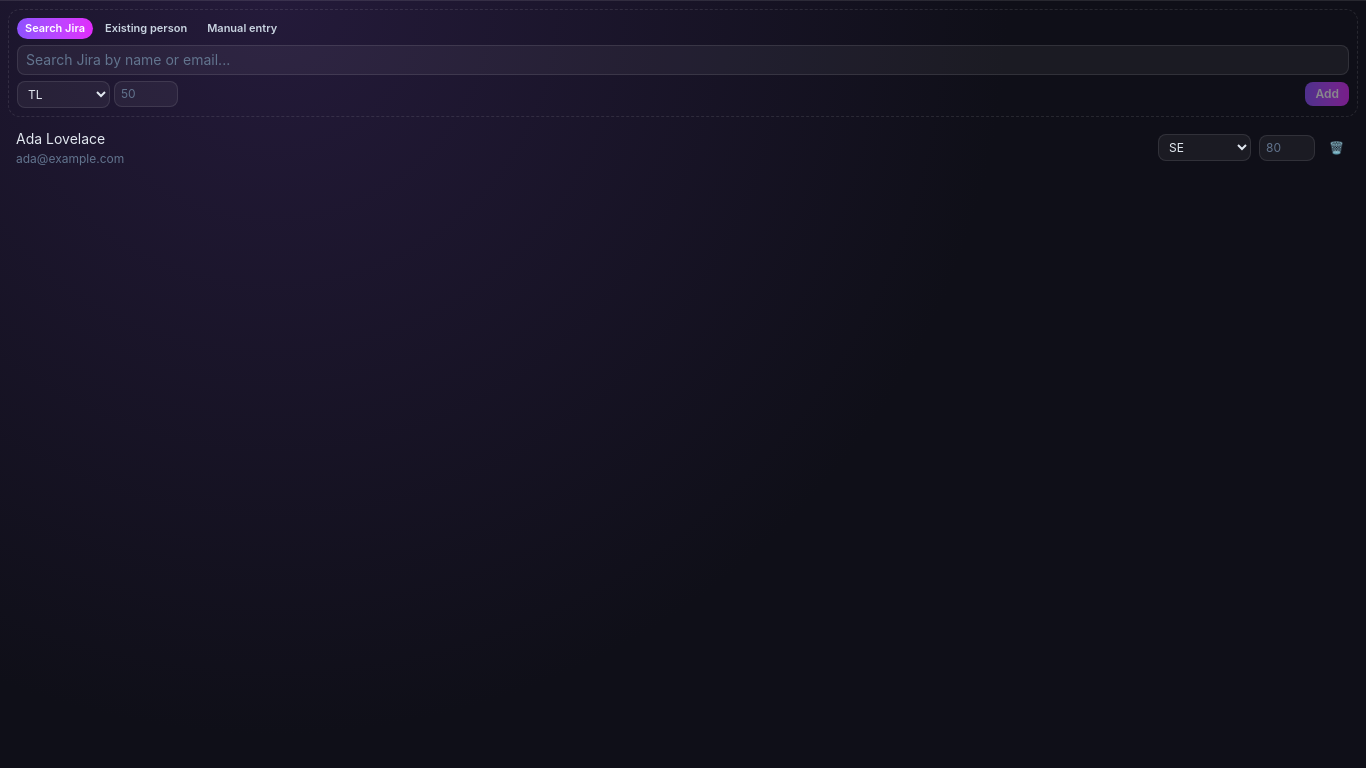
TeamRoster › removes a membership after confirming
Expected: the text "Ada Lovelace" is shown, [16, 130, 105, 146]
Click the button named "Remove Ada Lovelace from team": click(1336, 148) [1323, 136, 1350, 160]
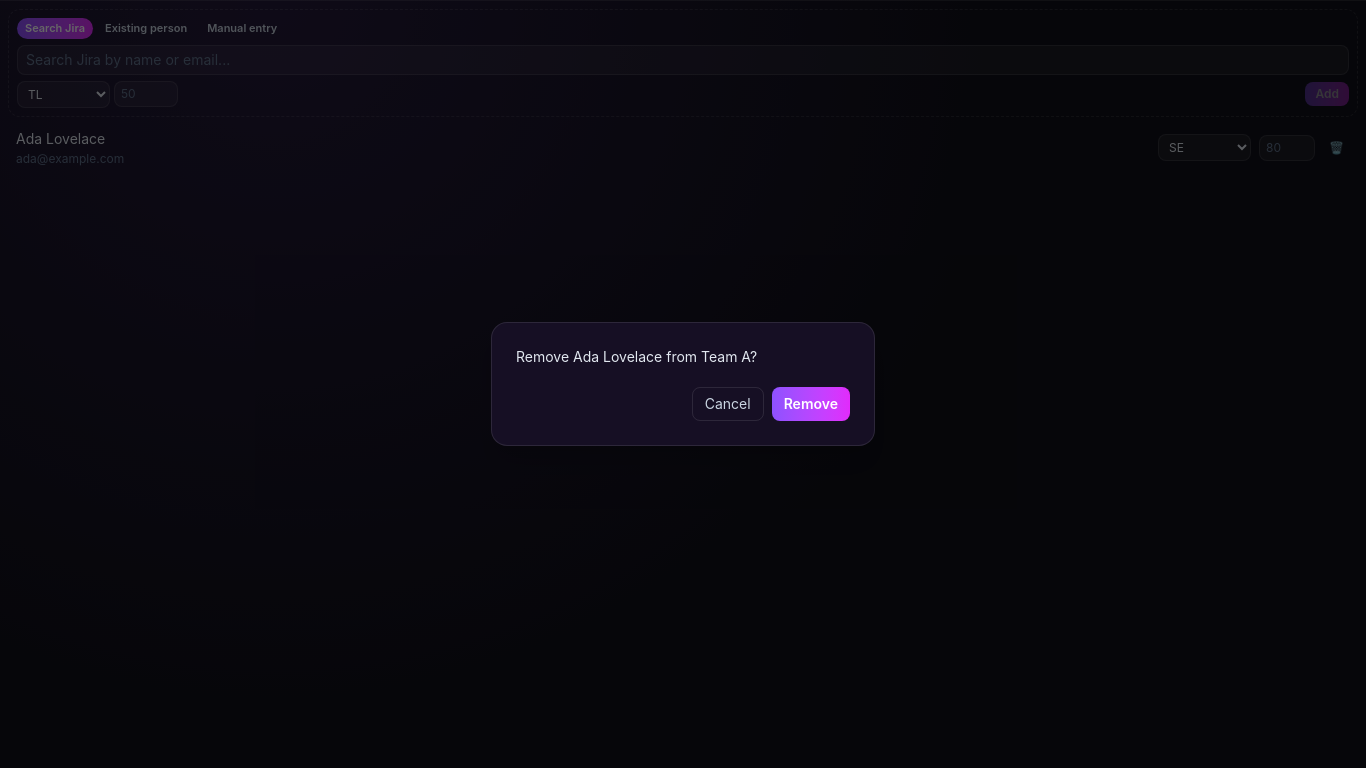
Expected: the dialog is shown
Click the button "Remove": click(811, 404) [772, 387, 850, 421]
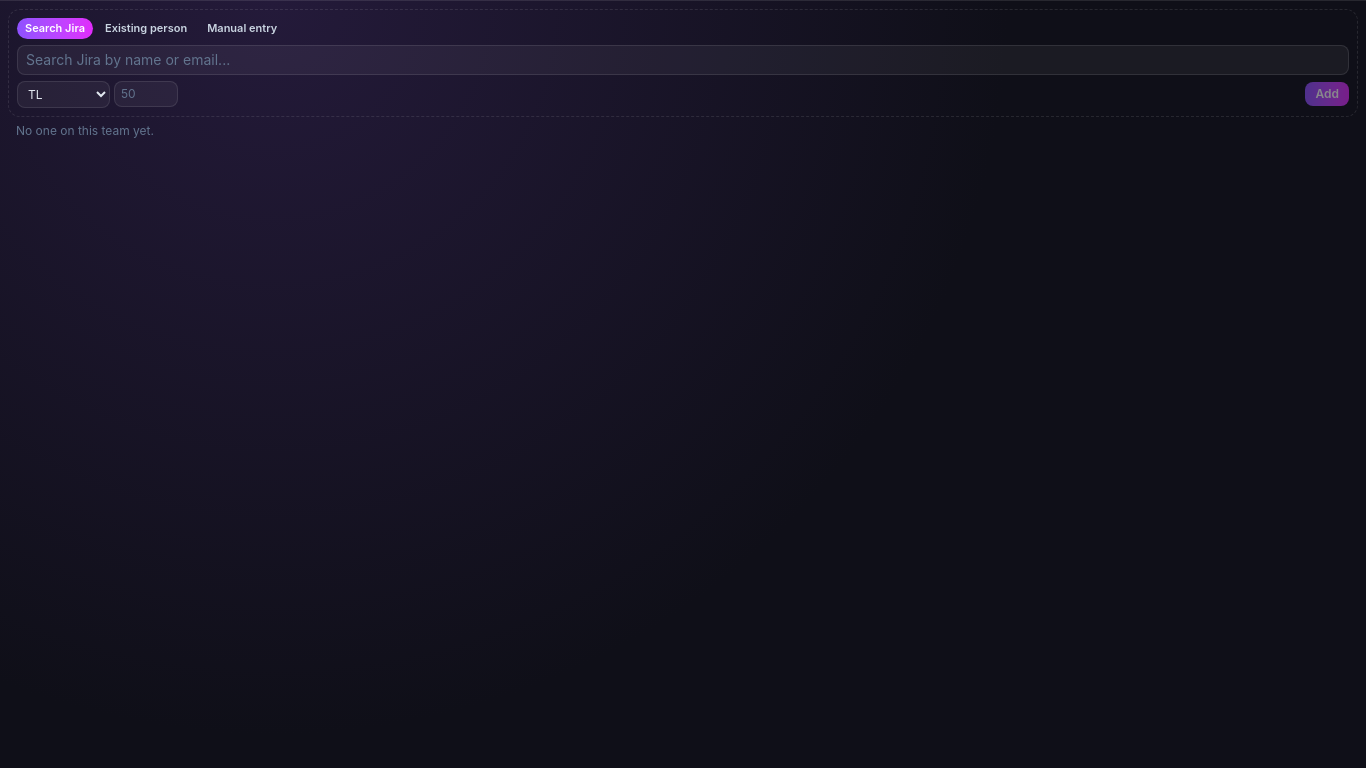
Expected: the text "Ada Lovelace" is gone
